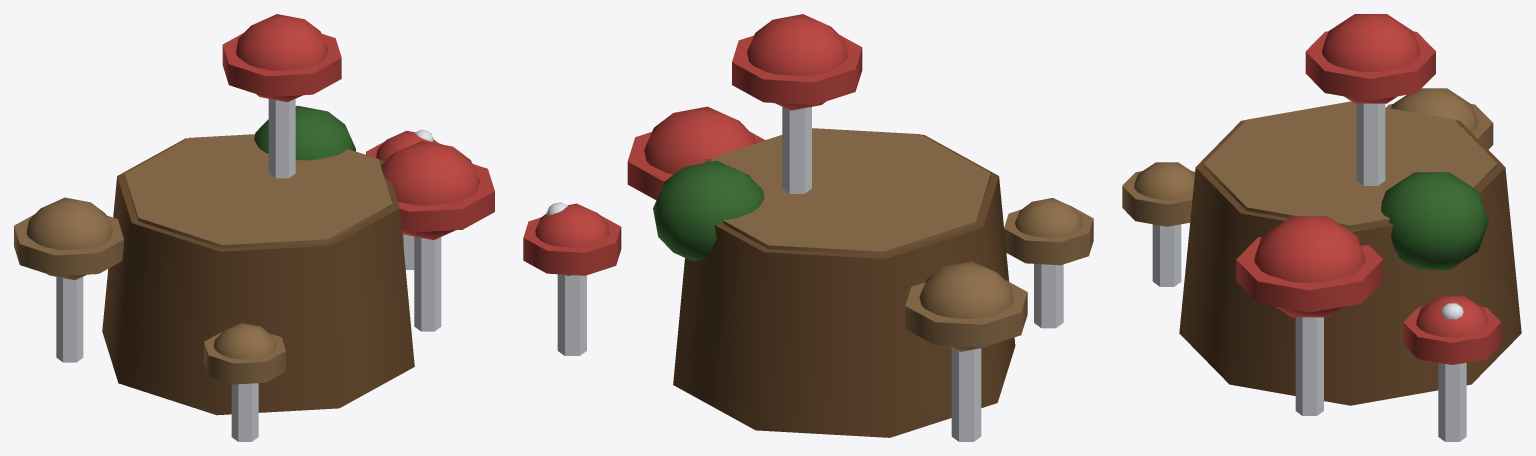
The model's file is buisson_foret_3.glb.
3 renders of one model, left to right at view 1: azimuth 30°, elevation 25°; view 2: azimuth 150°, elevation 25°; view 3: azimuth 270°, elevation 25°, orthographic. The views are drawn at different scales.
Parts seen in each view (by area): view 1: souche.002, champignons_bois.002, champignons_rouge.002, champignons_blanc.002, champignons_feuille_sombre.002; view 2: souche.002, champignons_bois.002, champignons_rouge.002, champignons_blanc.002, champignons_feuille_sombre.002; view 3: souche.002, champignons_bois.002, champignons_rouge.002, champignons_blanc.002, champignons_feuille_sombre.002.
Boxes of the visible parts, box(x1,y1,x2,y2) form: souche.002: box(102, 138, 414, 415); champignons_bois.002: box(14, 134, 392, 384); champignons_rouge.002: box(222, 14, 494, 239); champignons_blanc.002: box(56, 99, 441, 441); champignons_feuille_sombre.002: box(254, 105, 355, 160); souche.002: box(673, 134, 1015, 437); champignons_bois.002: box(711, 128, 1093, 351); champignons_rouge.002: box(523, 14, 862, 275); champignons_blanc.002: box(546, 107, 1063, 441); champignons_feuille_sombre.002: box(653, 161, 764, 260); souche.002: box(1179, 120, 1521, 405); champignons_bois.002: box(1122, 88, 1497, 228); champignons_rouge.002: box(1236, 14, 1501, 364); champignons_blanc.002: box(1152, 103, 1466, 441); champignons_feuille_sombre.002: box(1381, 172, 1488, 270).
Bounding box in the file's own units: 0.66 × 0.4513 × 0.49.
